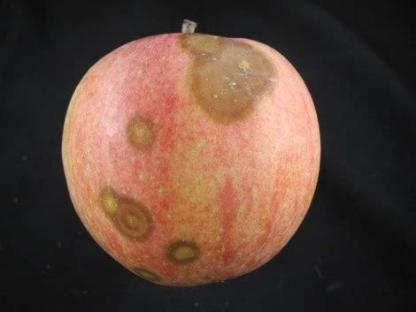defect: (87, 176, 207, 294), (174, 31, 274, 128), (118, 100, 170, 162)
